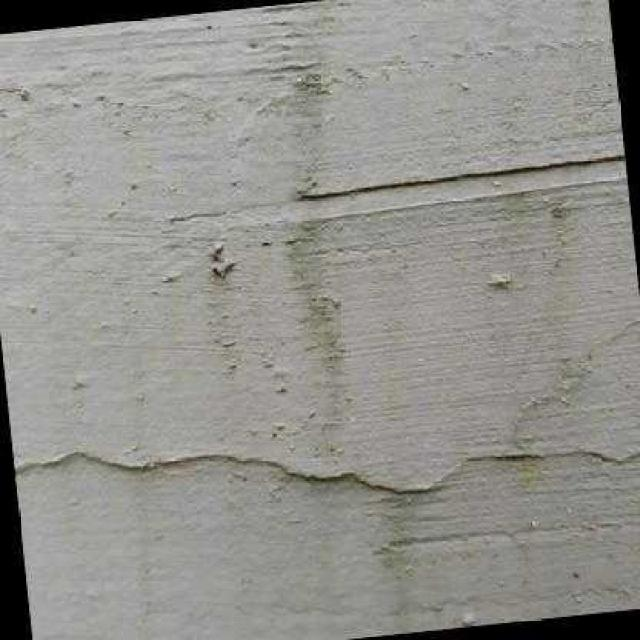D00: (13, 443, 640, 496), (305, 151, 625, 201)
